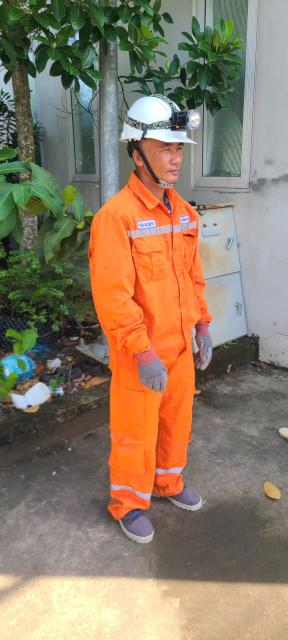gloves: (130, 341, 179, 409), (189, 320, 221, 384)
helmet: (111, 87, 201, 158)
shoes: (108, 486, 163, 557), (153, 464, 207, 531)
